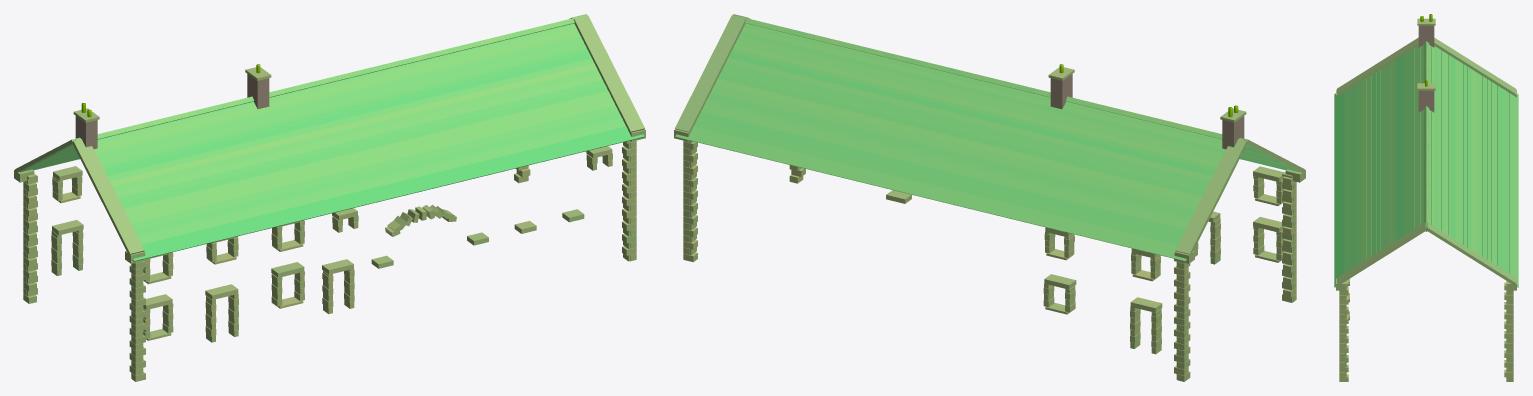
The model's file is SM_Bld_198_Stone.glb.
The picture shows the model from 3 angles, left to right: view 1: azimuth 30°, elevation 25°; view 2: azimuth 150°, elevation 25°; view 3: azimuth 270°, elevation 25°; orthographic projection. The views are drawn at different scales.
Parts seen in each view (by area): view 1: SM_Bld_198_Stone; view 2: SM_Bld_198_Stone; view 3: SM_Bld_198_Stone.
Part boxes in pixels (x1=…): SM_Bld_198_Stone: x1=14, y1=14, x2=645, y2=381; SM_Bld_198_Stone: x1=674, y1=14, x2=1305, y2=381; SM_Bld_198_Stone: x1=1334, y1=14, x2=1518, y2=381.
Size of the model in its own units: 25.93 by 11.23 by 10.39.
